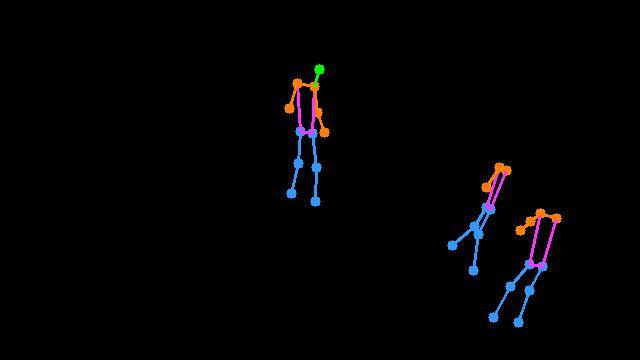normal: (431, 141, 570, 341), (272, 50, 346, 218)
